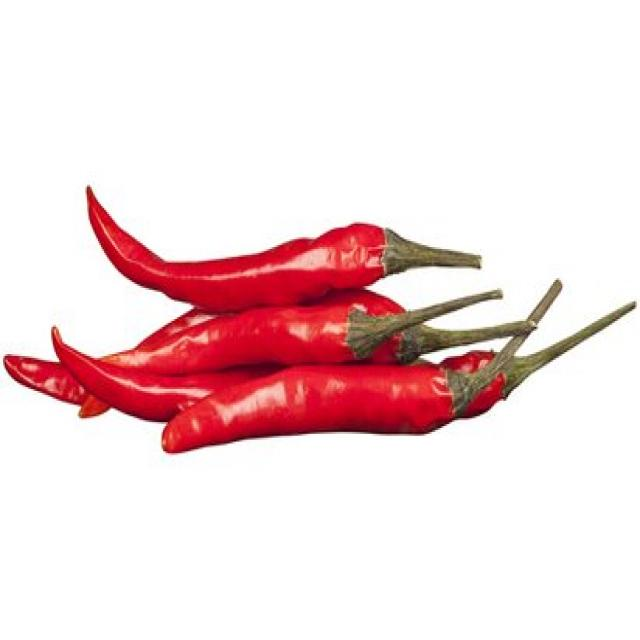red chili: (162, 304, 637, 453), (87, 188, 482, 312), (103, 290, 536, 374)
